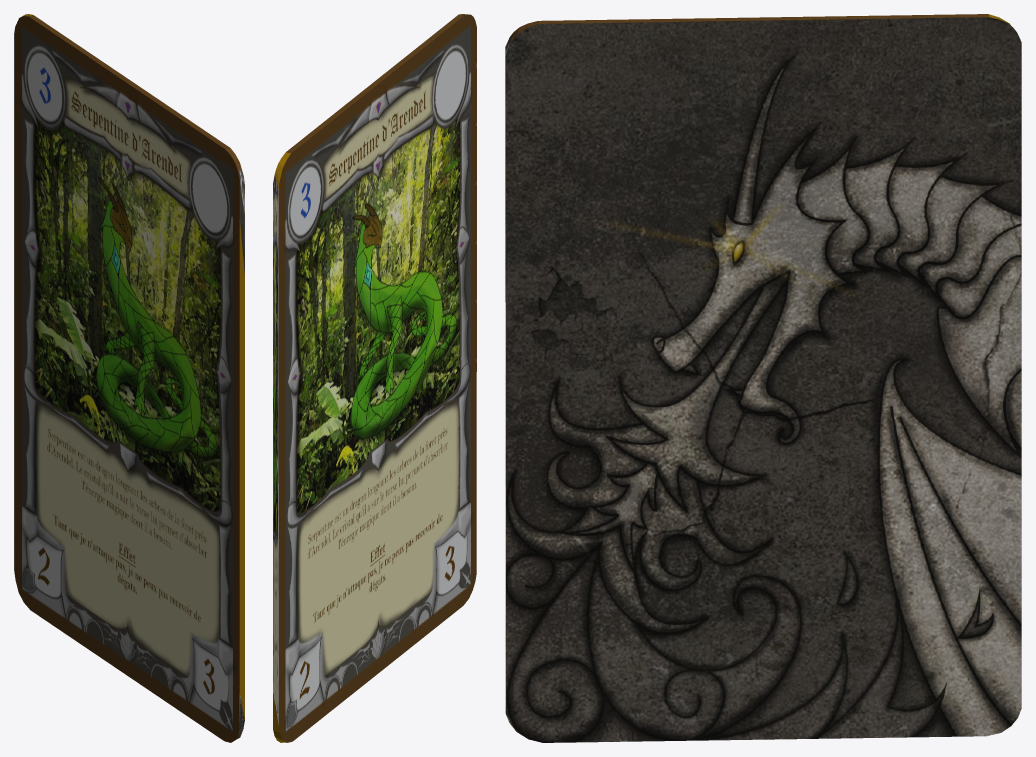
The model's file is Serpentine_d_arendelle.fbx.
3 views of the same model, side by side, from view 1: azimuth 30°, elevation 25°; view 2: azimuth 150°, elevation 25°; view 3: azimuth 270°, elevation 25° (orthographic). The views are drawn at different scales.
Parts seen in each view (by area): view 1: SERPENTINE_D_ARENDEL:pPlane3; view 2: SERPENTINE_D_ARENDEL:pPlane3; view 3: SERPENTINE_D_ARENDEL:pPlane3.
Boxes of the visible parts, x1,y1,x2,y2 form: SERPENTINE_D_ARENDEL:pPlane3: [14, 14, 244, 742]; SERPENTINE_D_ARENDEL:pPlane3: [273, 14, 476, 742]; SERPENTINE_D_ARENDEL:pPlane3: [505, 14, 1021, 742].
Bounding box in the file's own units: 0.1625 × 4.99 × 3.24.
3 materials, 2 textured.
